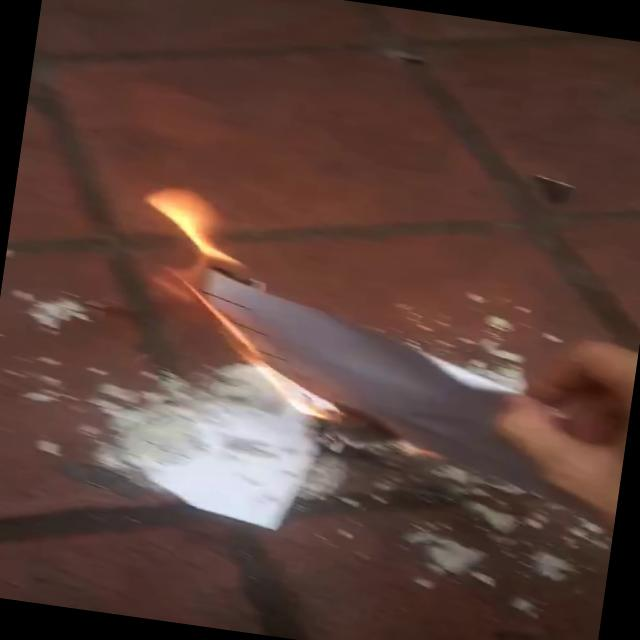Fire_Dangerous: (107, 183, 382, 432)
